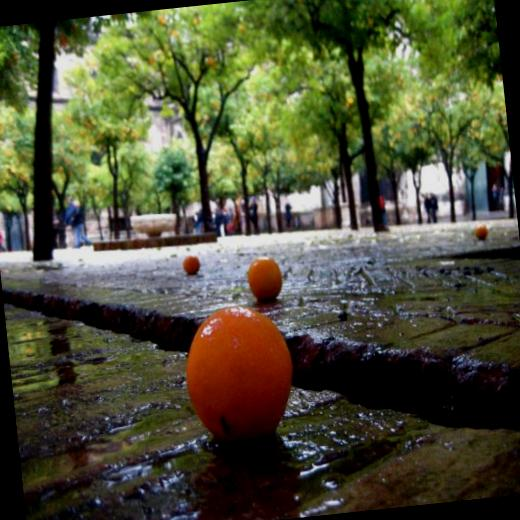Grape: (178, 306, 298, 446), (244, 254, 282, 305), (182, 254, 202, 274), (473, 220, 490, 236)
